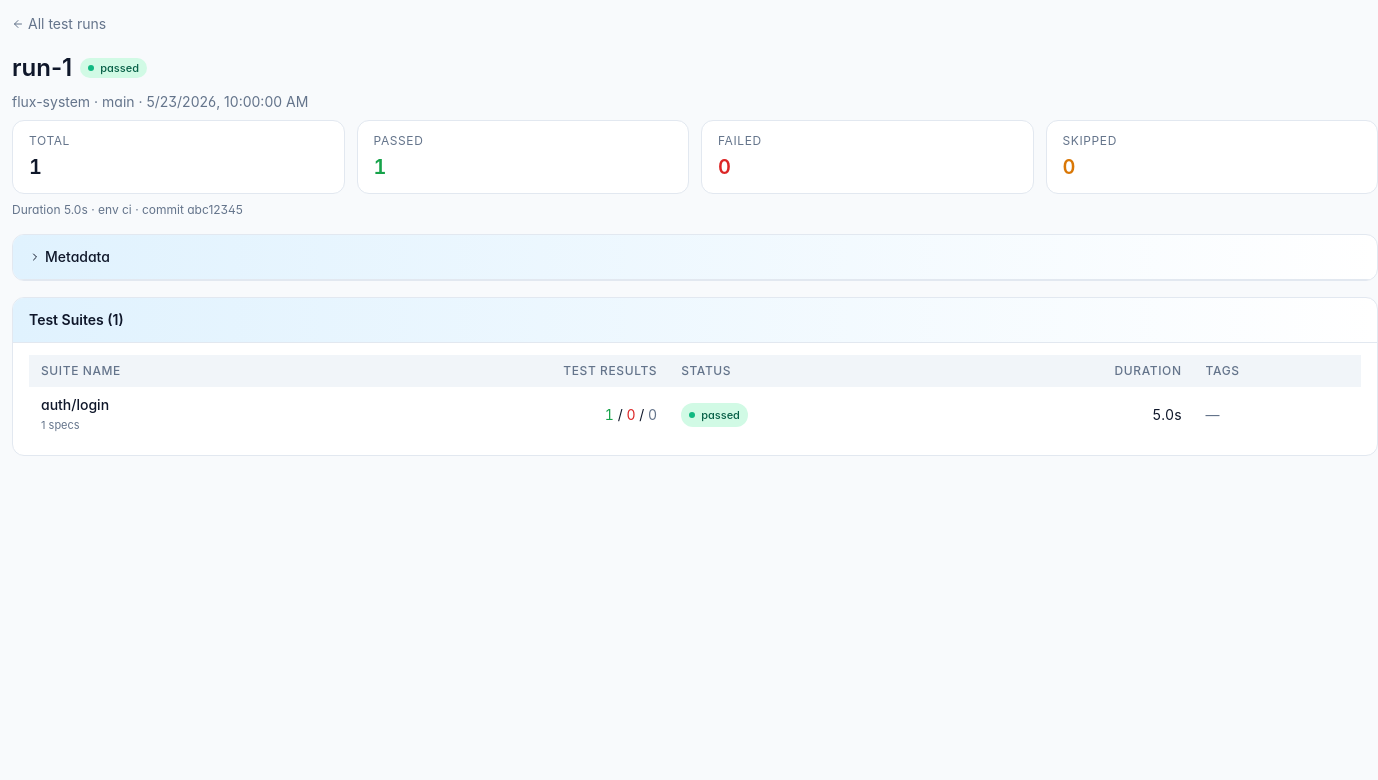
Scenario: Run header (always visible) › renders metadata panel only when metadata is a non-empty object
This screenshot has width=1378, height=780.
Click the button with test id "metadata-toggle": coordinates (69, 257) [29,247,110,267]
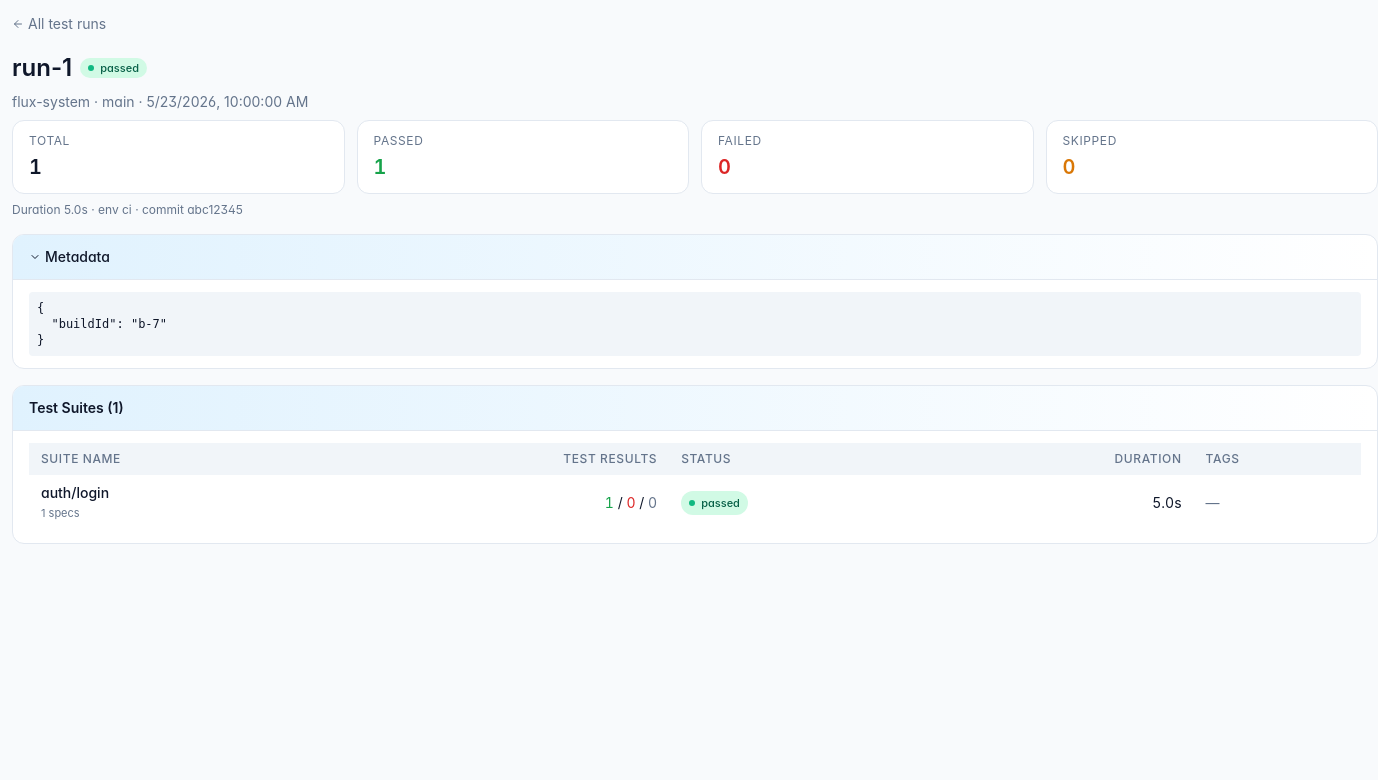
Check: the text with test id "metadata-content" shows "buildId", box [37,301,167,347]
